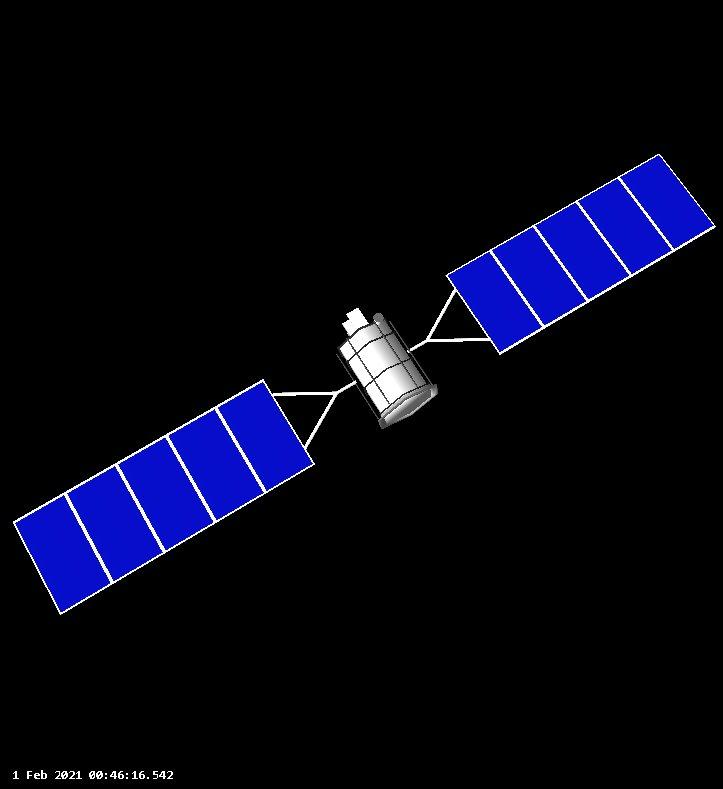body: (333, 301, 441, 435)
solar: (8, 380, 318, 615), (444, 148, 719, 359)
